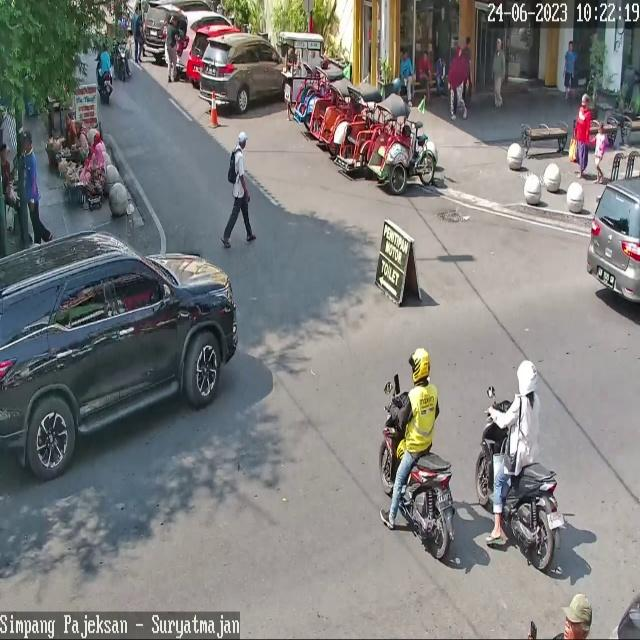bus: (476, 400, 564, 570), (379, 391, 455, 559), (110, 37, 131, 83), (100, 70, 114, 106)
motorcycle: (0, 232, 238, 482), (585, 176, 640, 304), (201, 34, 281, 114), (164, 9, 233, 67), (144, 0, 212, 54), (186, 24, 242, 82)
